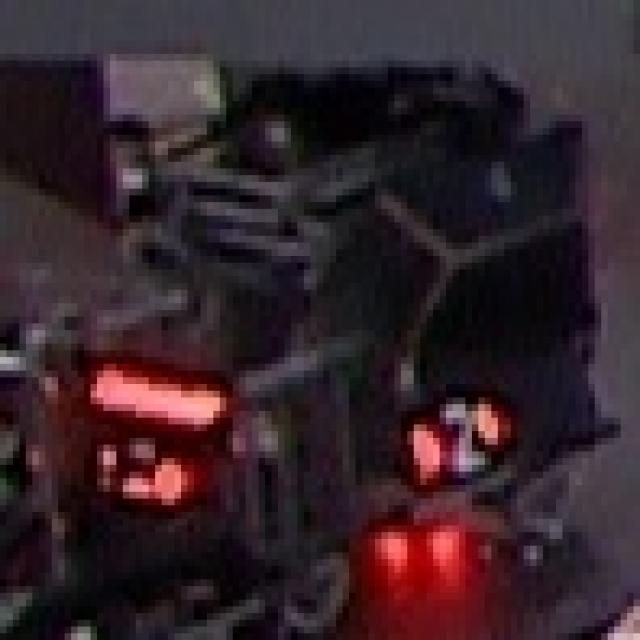R2: (388, 384, 511, 478)
